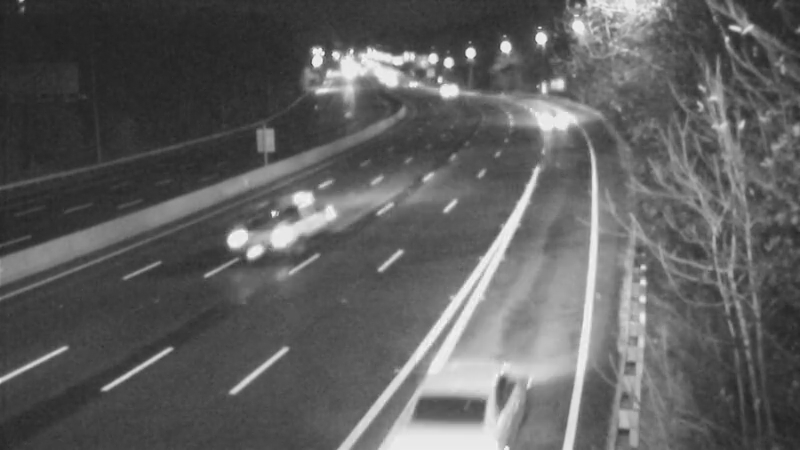vehicle: (398, 357, 508, 450), (217, 187, 297, 267), (384, 59, 434, 109), (415, 62, 465, 112), (526, 96, 576, 146)
